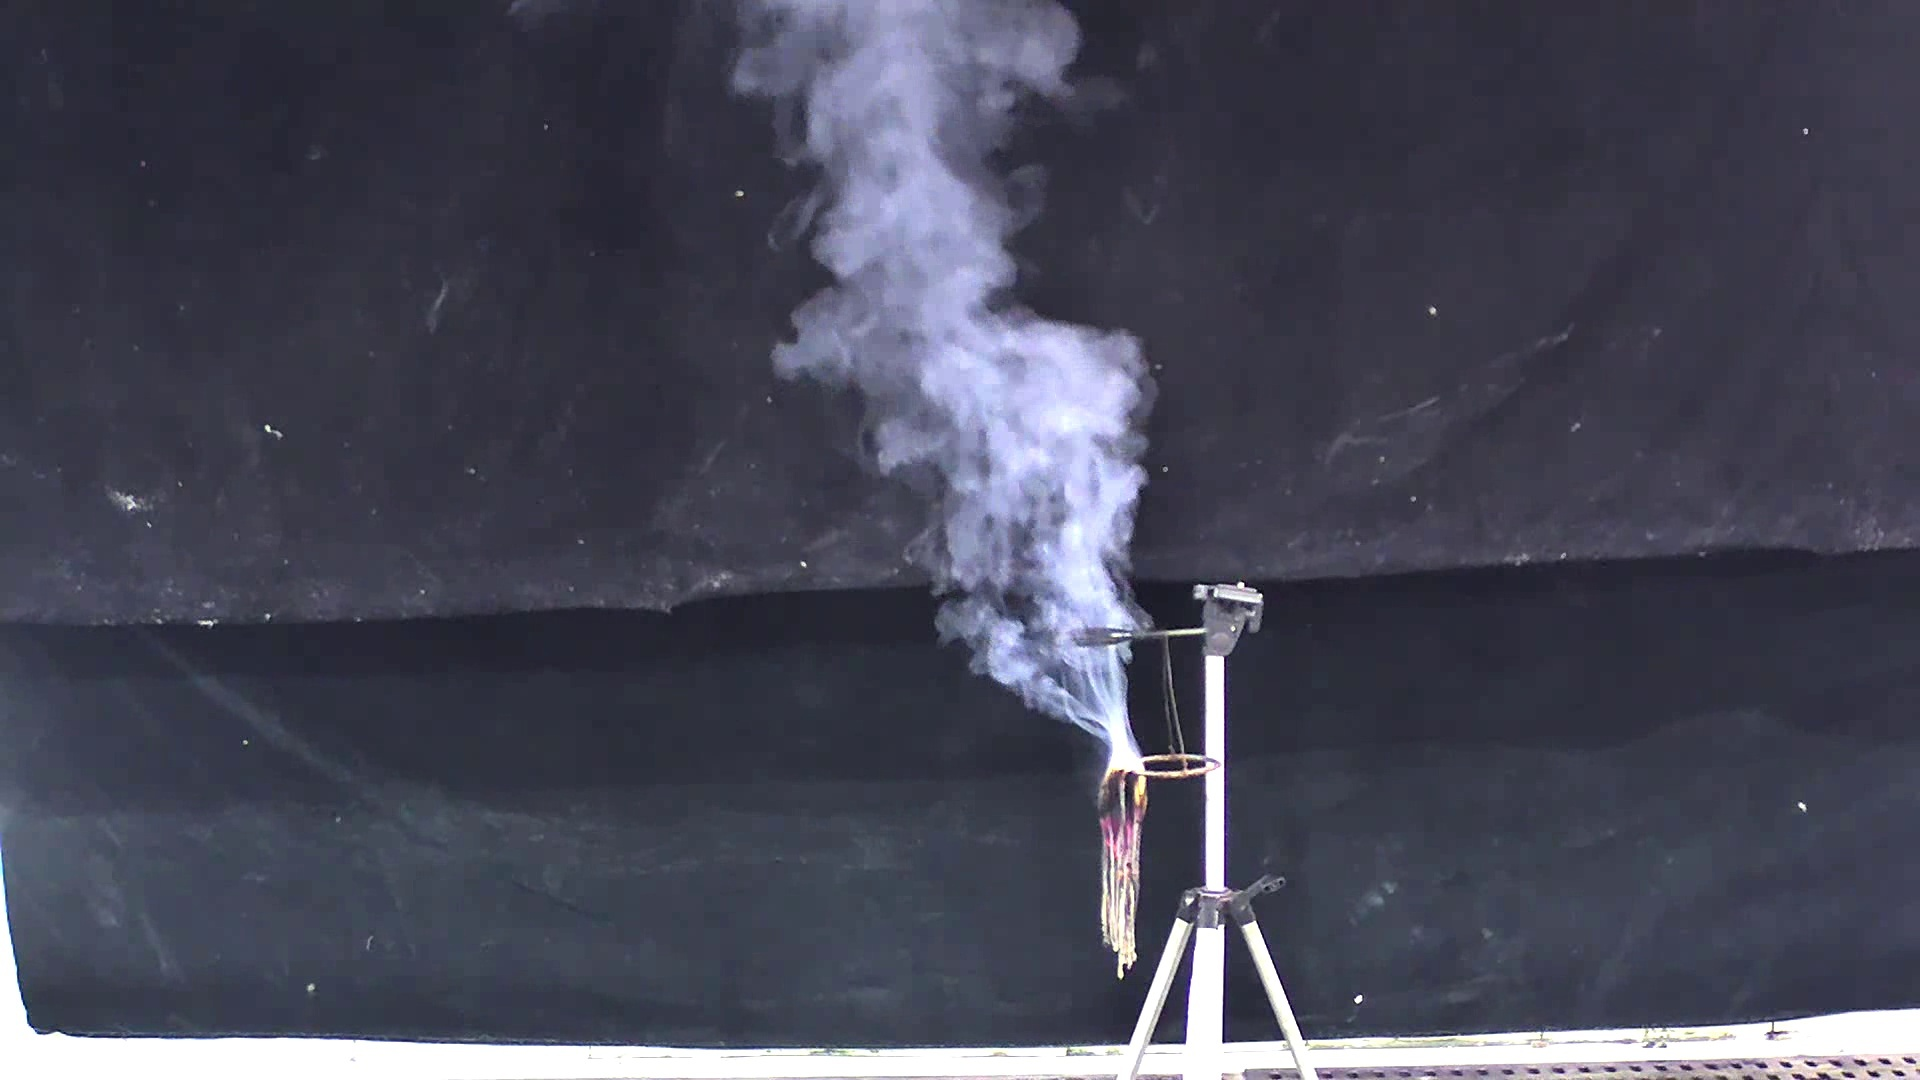smoke: (711, 13, 1156, 731)
